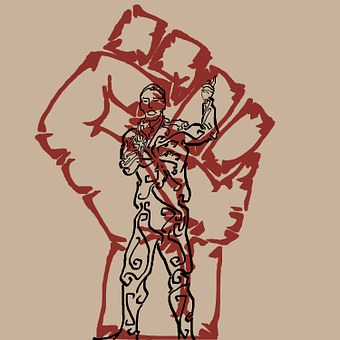fist: (55, 31, 260, 244)
